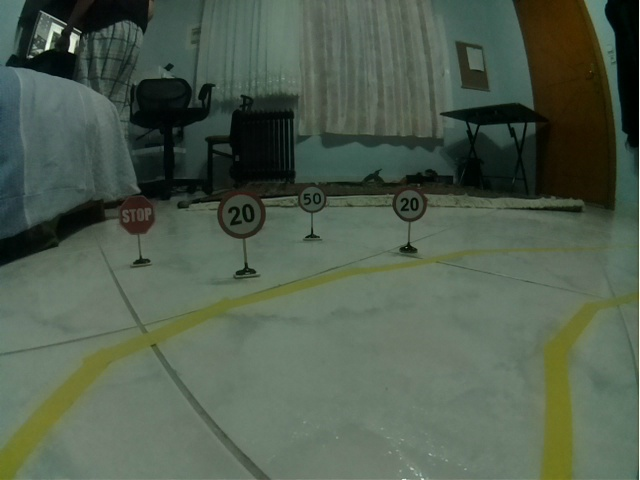Speed Limit 20: (217, 191, 266, 239), (392, 187, 428, 223)
Speed Limit 50: (298, 185, 327, 214)
Stop: (119, 195, 155, 235)
